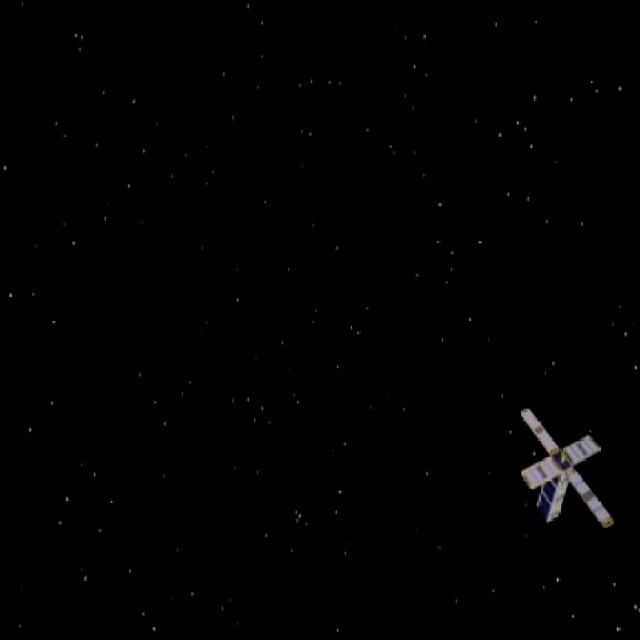medium_debris: (512, 404, 621, 534)
